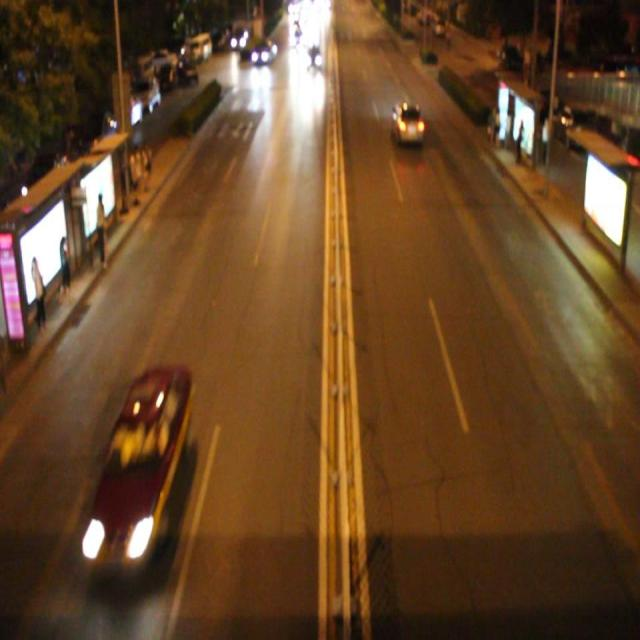car: (78, 364, 194, 584), (390, 98, 424, 143)
